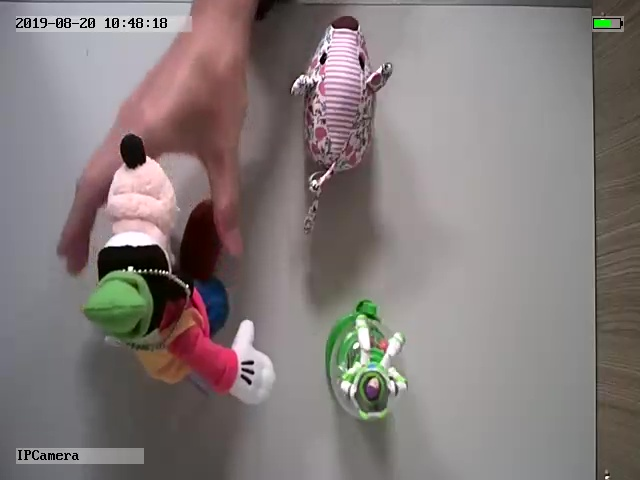buzz: (319, 299, 410, 426)
goofy: (79, 132, 278, 409)
pig: (288, 13, 395, 235)
